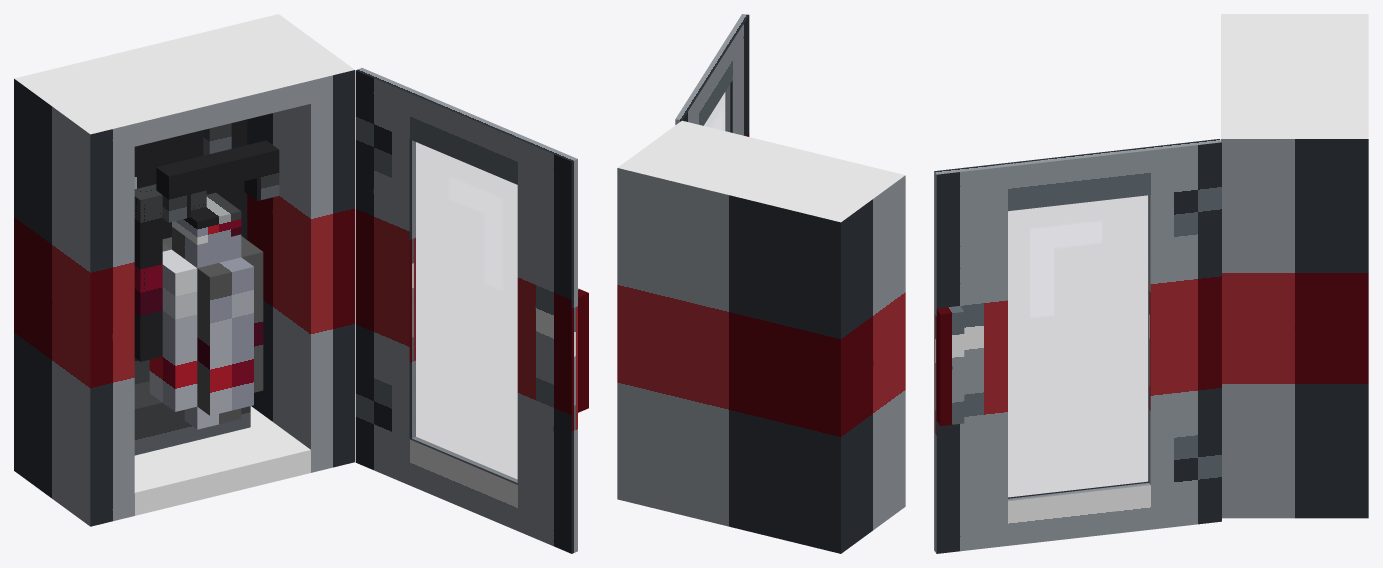
File: extinguisher_cabinet_mini_open.glb
The picture shows the model from 3 angles, left to right: view 1: azimuth 30°, elevation 25°; view 2: azimuth 150°, elevation 25°; view 3: azimuth 270°, elevation 25°; orthographic projection. The views are drawn at different scales.
Parts seen in each view (by area): view 1: Lined_Cabinet, Door_Frame, Window_Glass, Stepped_Cylinder, Trigger_Handle, Stepped_Hose, Bottom_Cradle, Valve_Neck, Door_Handle, Mounting_Clip; view 2: Lined_Cabinet, Door_Frame, Window_Glass; view 3: Lined_Cabinet, Door_Frame, Window_Glass, Door_Handle.
Boxes of the visible parts, left/top/right/bottom form: Lined_Cabinet: left=14, top=14, right=354, bottom=526; Door_Frame: left=355, top=68, right=577, bottom=553; Window_Glass: left=412, top=141, right=516, bottom=481; Stepped_Cylinder: left=149, top=227, right=263, bottom=429; Trigger_Handle: left=156, top=140, right=279, bottom=222; Stepped_Hose: left=134, top=184, right=206, bottom=361; Bottom_Cradle: left=134, top=381, right=250, bottom=455; Valve_Neck: left=172, top=192, right=241, bottom=244; Door_Handle: left=578, top=288, right=588, bottom=412; Mounting_Clip: left=203, top=123, right=231, bottom=155; Lined_Cabinet: left=617, top=120, right=905, bottom=553; Door_Frame: left=675, top=14, right=749, bottom=136; Window_Glass: left=704, top=91, right=728, bottom=130; Lined_Cabinet: left=1221, top=14, right=1368, bottom=518; Door_Frame: left=934, top=139, right=1221, bottom=553; Window_Glass: left=1008, top=196, right=1149, bottom=499; Door_Handle: left=936, top=306, right=964, bottom=425.
Bounding box in the file's own units: 0.4507 × 0.4781 × 0.4962.
2 materials, 2 textured.
